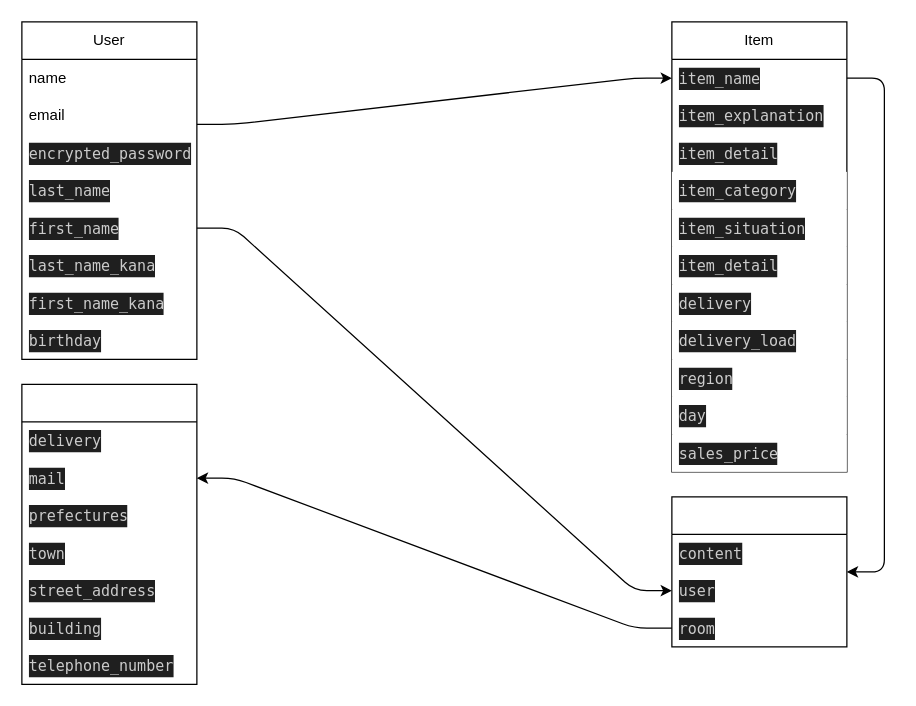
The diagram is 916 pixels wide and 706 high, and some of its shapes have lost their labels. Each missing label, with the box of its shape:
addresses: (21, 383, 197, 684)
order: (671, 496, 847, 647)
